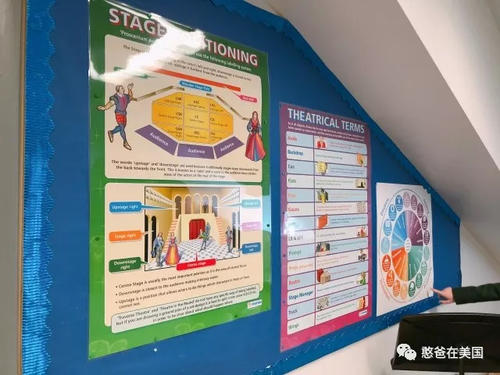bill: (90, 1, 271, 358), (281, 101, 372, 351), (376, 182, 434, 315)
